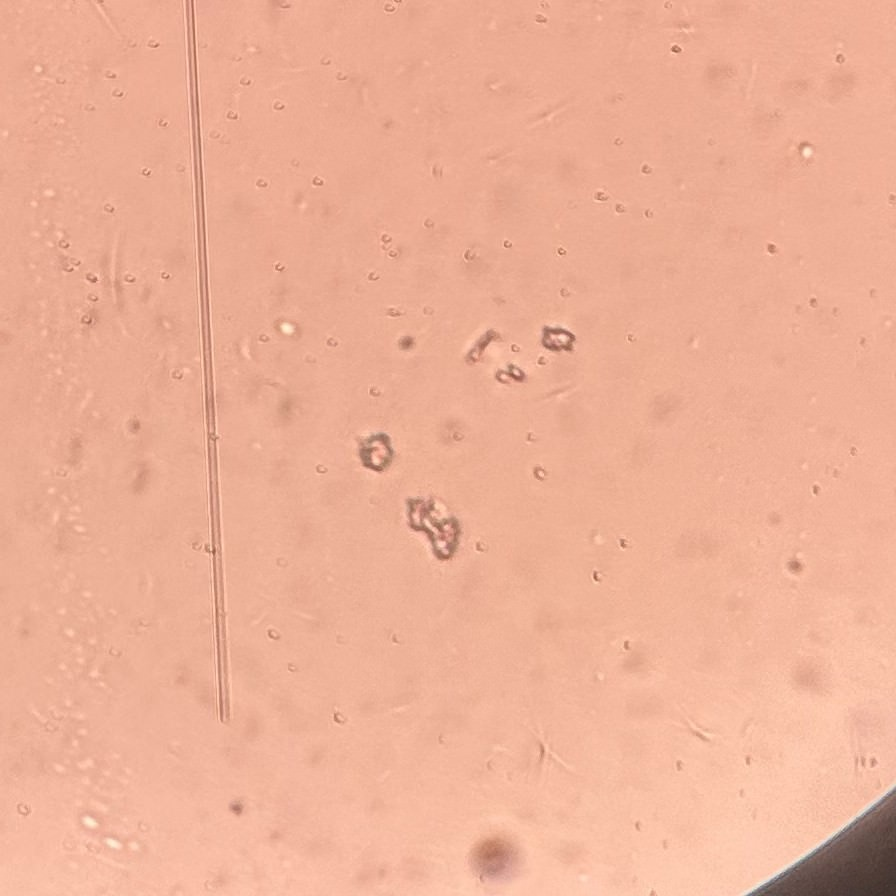microplastic: (393, 489, 478, 559), (356, 427, 396, 469), (464, 329, 509, 361), (539, 323, 576, 355), (495, 365, 533, 385), (271, 318, 305, 340), (792, 140, 822, 161)
